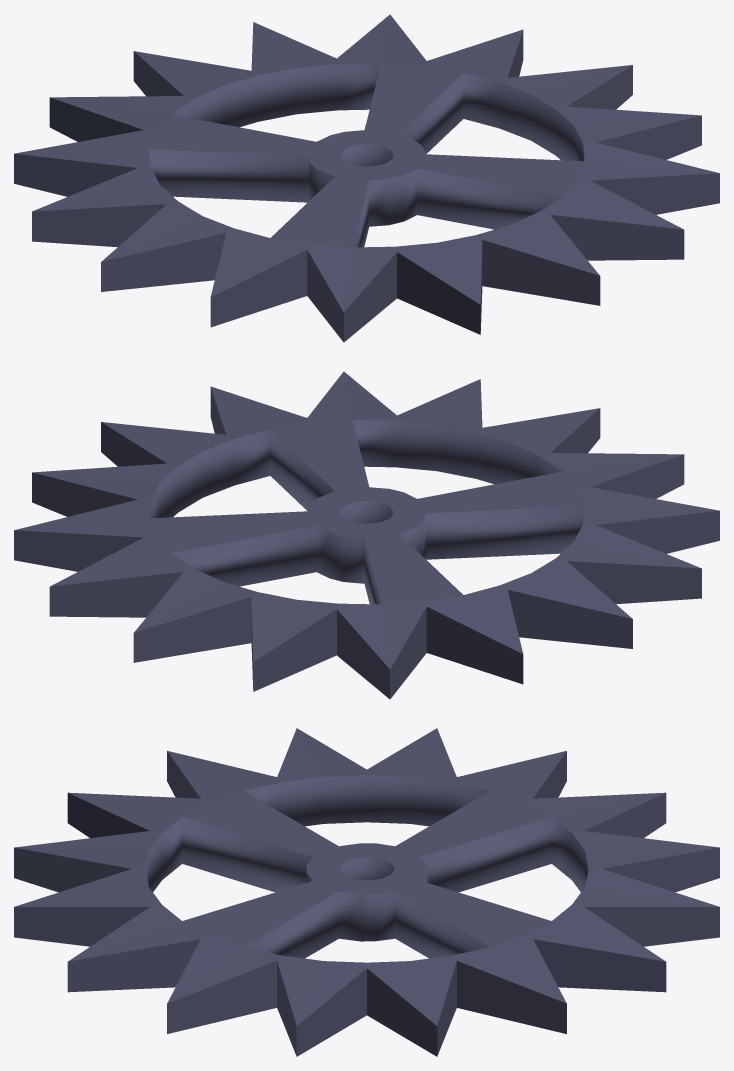
The model's file is SteampunkCogB.fbx.
3 views of the same model, one above another, from view 1: azimuth 30°, elevation 25°; view 2: azimuth 150°, elevation 25°; view 3: azimuth 270°, elevation 25° (orthographic).
Visible parts, largest first — view 1: SteampunkCogB; view 2: SteampunkCogB; view 3: SteampunkCogB.
Boxes of the visible parts, x1,y1,x2,y2 form: SteampunkCogB: [14, 14, 719, 342]; SteampunkCogB: [14, 371, 719, 699]; SteampunkCogB: [14, 728, 719, 1056].
Size of the model in its own units: 118 by 8.72 by 118.
